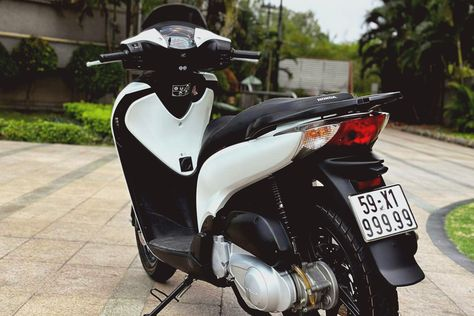number-plate: (355, 188, 414, 240)
